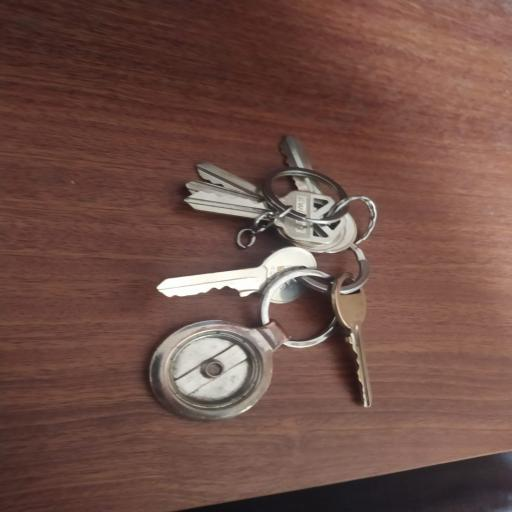Llaves: (145, 128, 391, 432)
